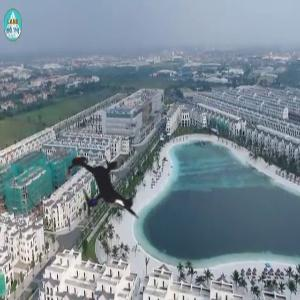drone: (35, 124, 167, 256)
